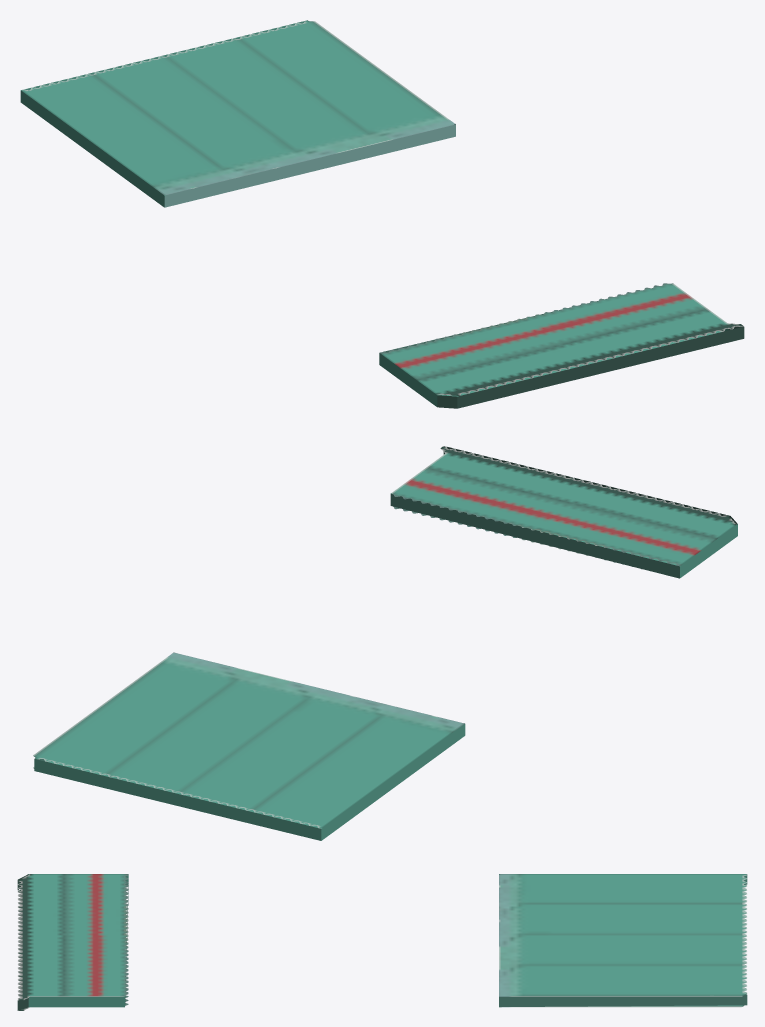
The model's file is pz_native_location_restaurant_diner_01_21_frame.obj.
3 renders of one model, top to bottom at view 1: azimuth 30°, elevation 25°; view 2: azimuth 150°, elevation 25°; view 3: azimuth 270°, elevation 25°, orthographic. The views are drawn at different scales.
Visible parts, largest first — view 1: pz_native_location_restaurant_diner_01_21_frame; view 2: pz_native_location_restaurant_diner_01_21_frame; view 3: pz_native_location_restaurant_diner_01_21_frame.
Part boxes in pixels (x1,y1,x2,y2): pz_native_location_restaurant_diner_01_21_frame: (20, 20, 744, 408); pz_native_location_restaurant_diner_01_21_frame: (33, 446, 737, 840); pz_native_location_restaurant_diner_01_21_frame: (17, 874, 747, 1010).
Bounding box in the file's own units: 1.06 × 0.04 × 2.54.
Materials: 1 (1 with a texture image).
